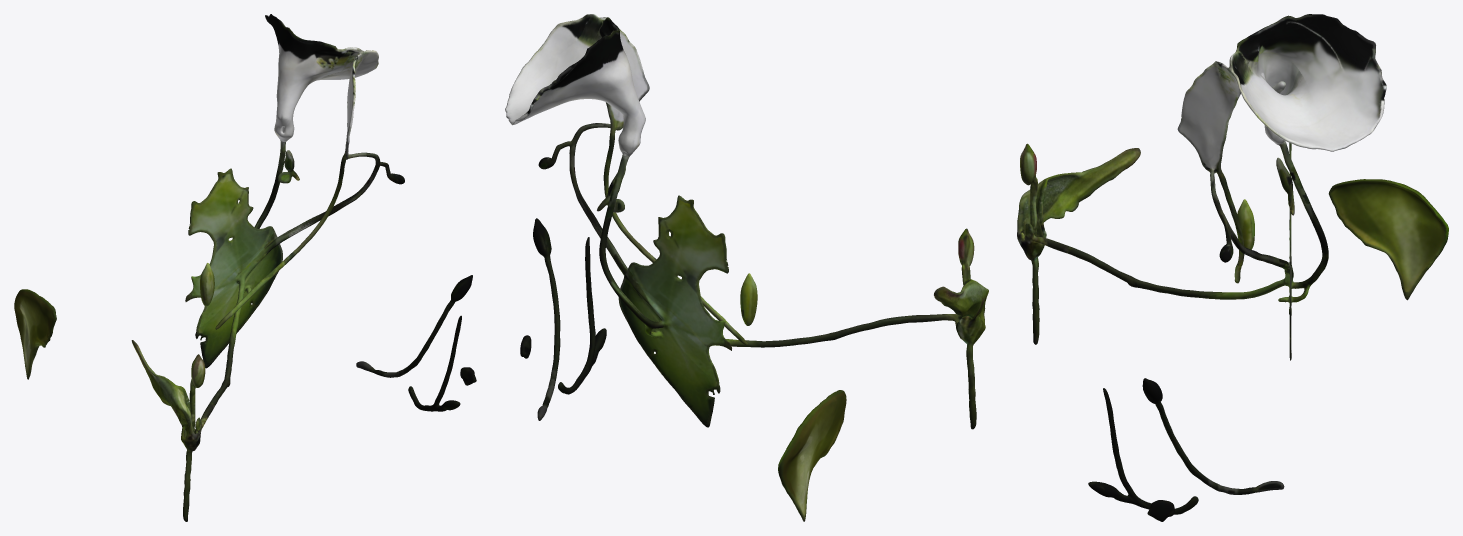
File: climber0044.gltf
3 renders of one model, left to right at view 1: azimuth 30°, elevation 25°; view 2: azimuth 150°, elevation 25°; view 3: azimuth 270°, elevation 25°, orthographic. The views are drawn at different scales.
Parts seen in each view (by area): view 1: Mesh_0.006; view 2: Mesh_0.006; view 3: Mesh_0.006.
Part boxes in pixels (x1,y1,x2,y2): Mesh_0.006: (14, 14, 476, 521); Mesh_0.006: (505, 14, 988, 521); Mesh_0.006: (1017, 14, 1448, 521).
Bounding box in the file's own units: 1.99 × 2 × 1.73.
1 material, 1 textured.
